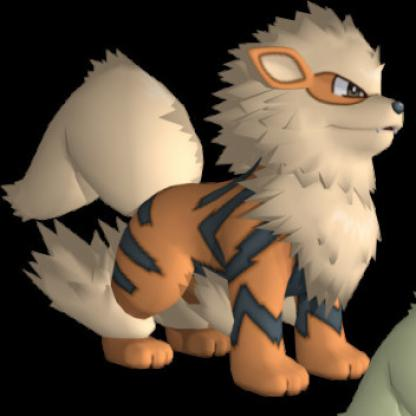Arcanine: (6, 6, 416, 384)
